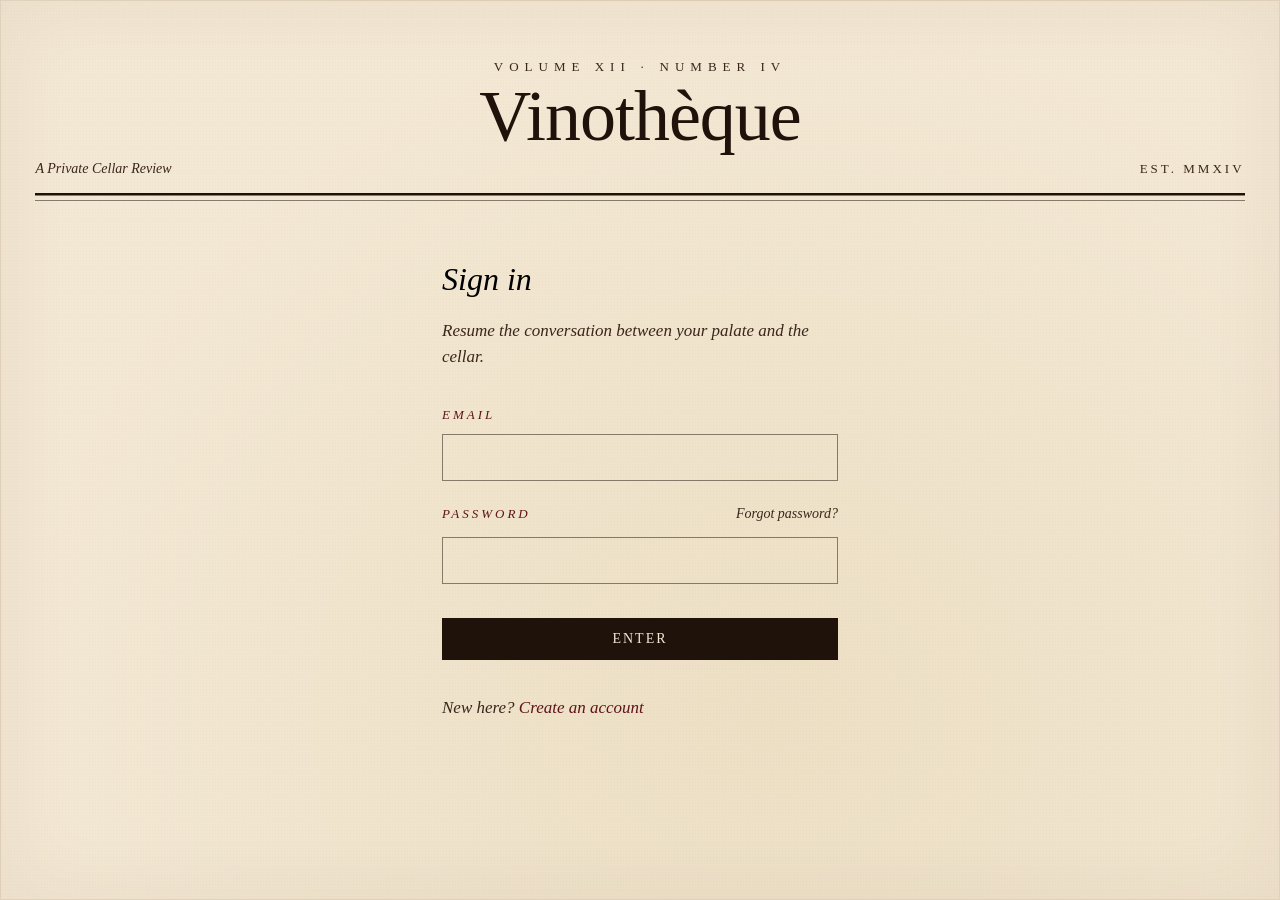
Test: Login page › still surfaces a failure message on 422 validation errors
This screenshot has width=1280, height=900.
Type "alice@example.com" into the field labelled "Email" at (640, 458), box [442, 434, 838, 481]
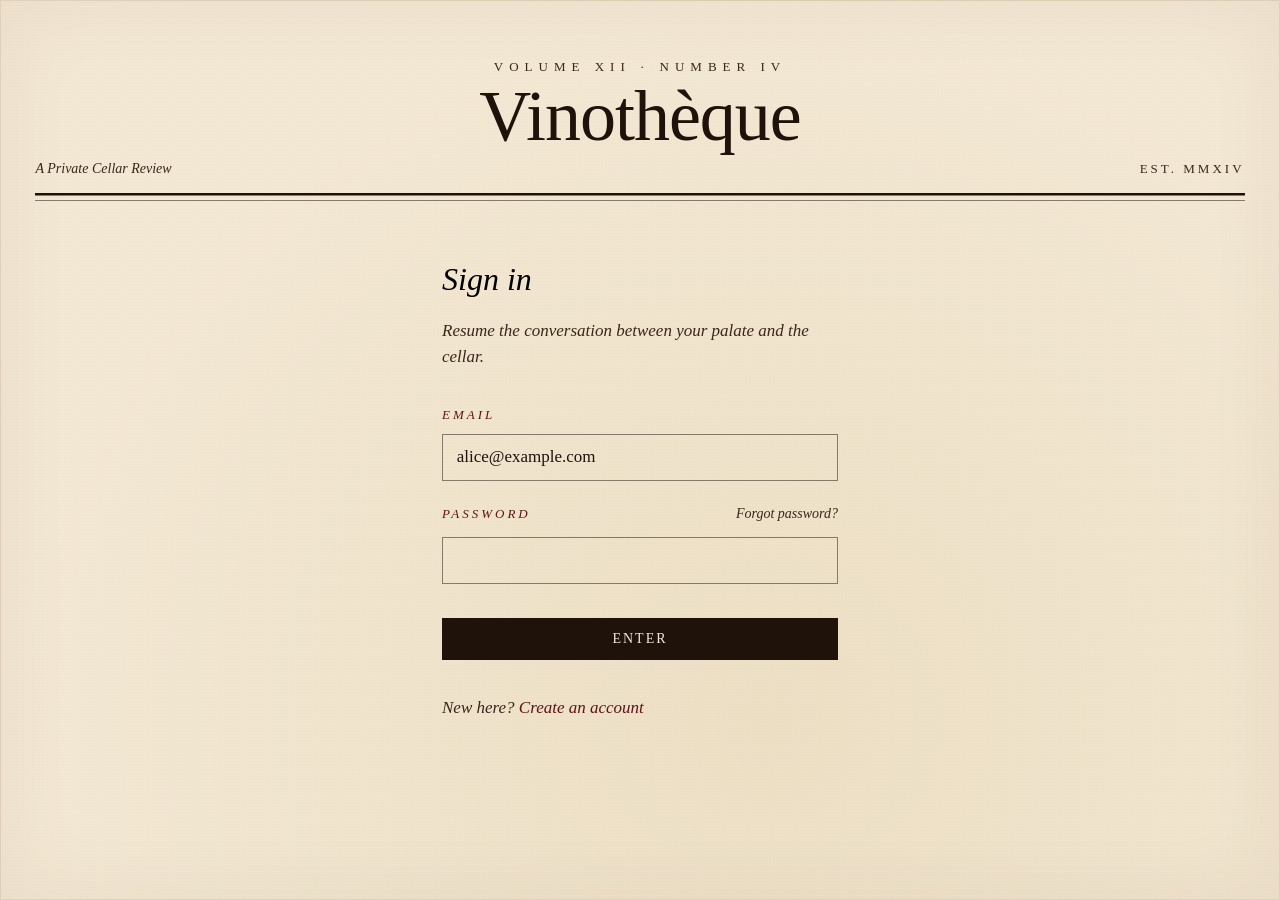
Type "x" into the password field labelled "Password" at (640, 560), box [442, 537, 838, 584]
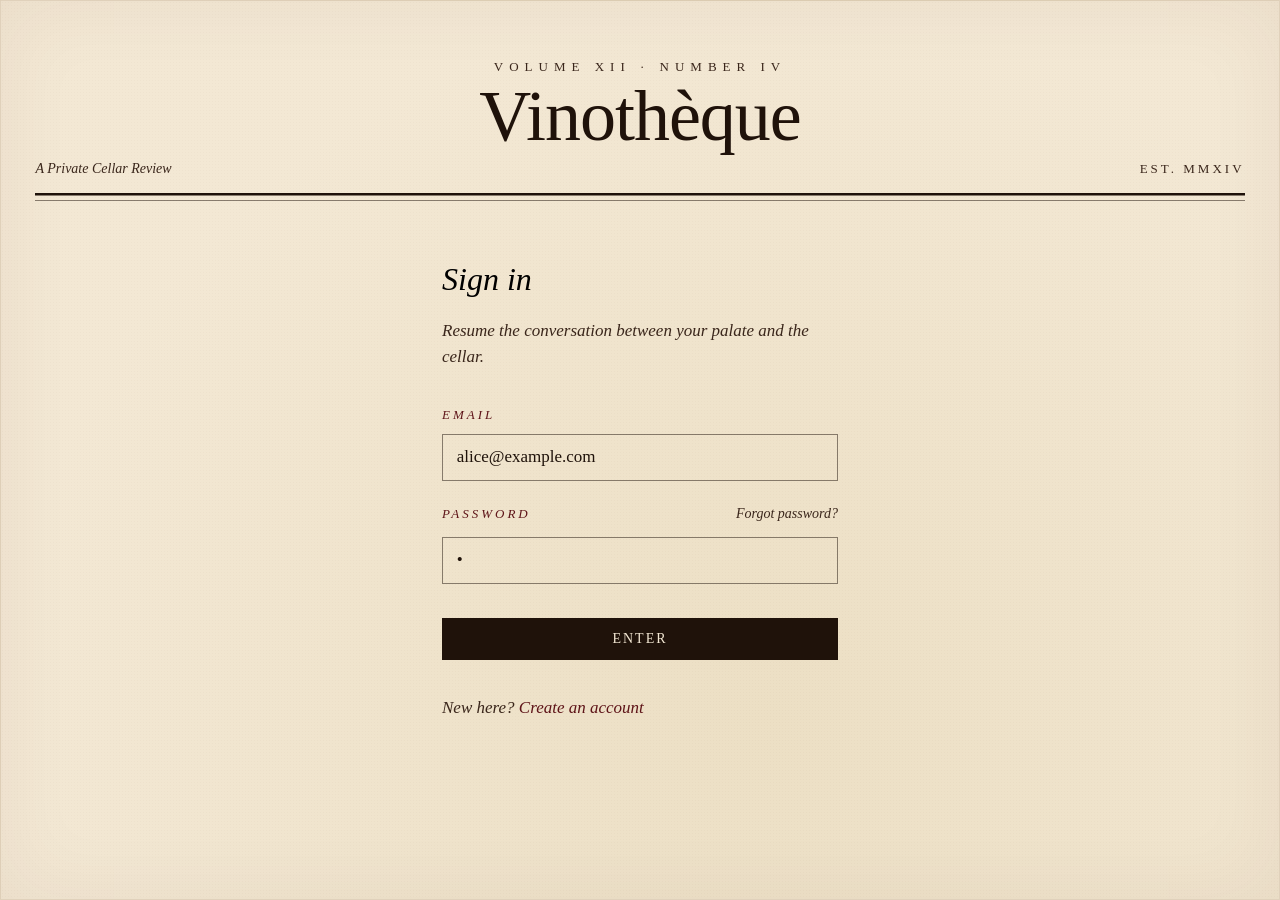
Click the button "Enter" at (640, 639), box [442, 618, 838, 660]
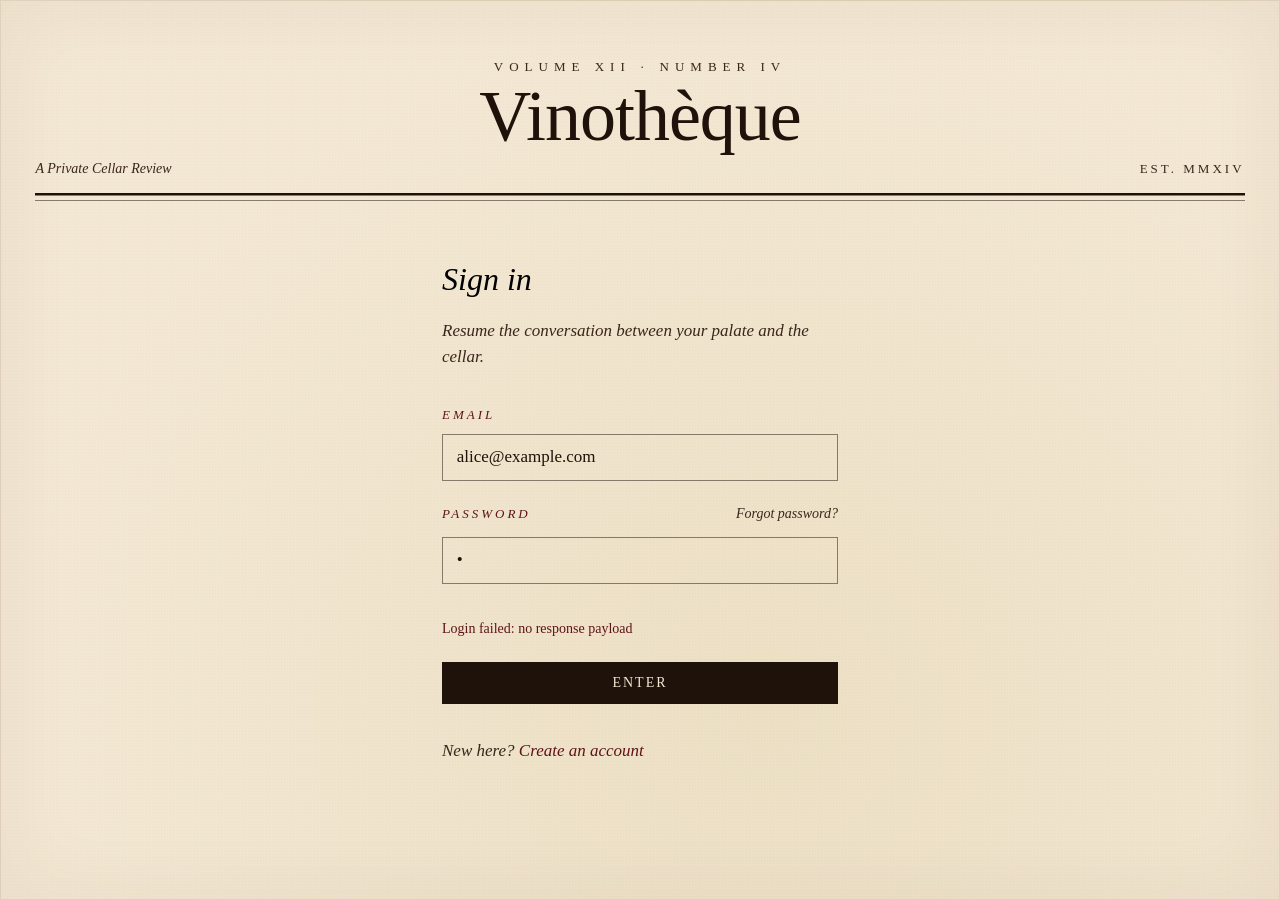
expect the text "Login failed: no response payload" is shown: met, box [442, 621, 632, 636]
